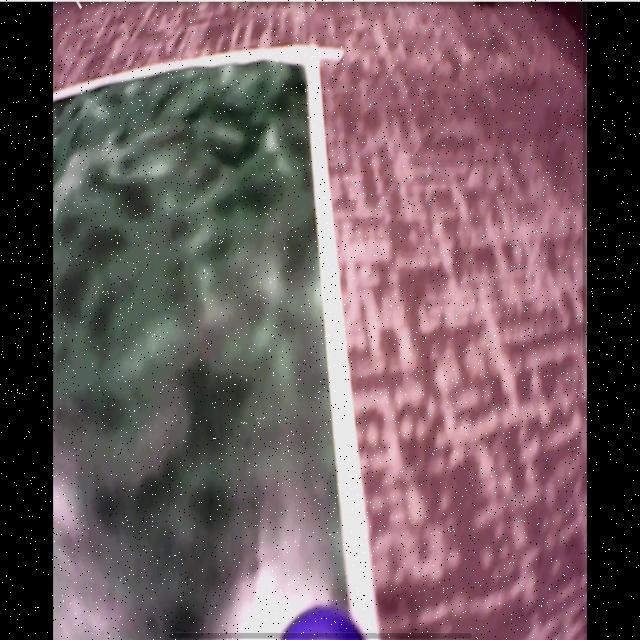ball: (281, 605, 365, 640)
